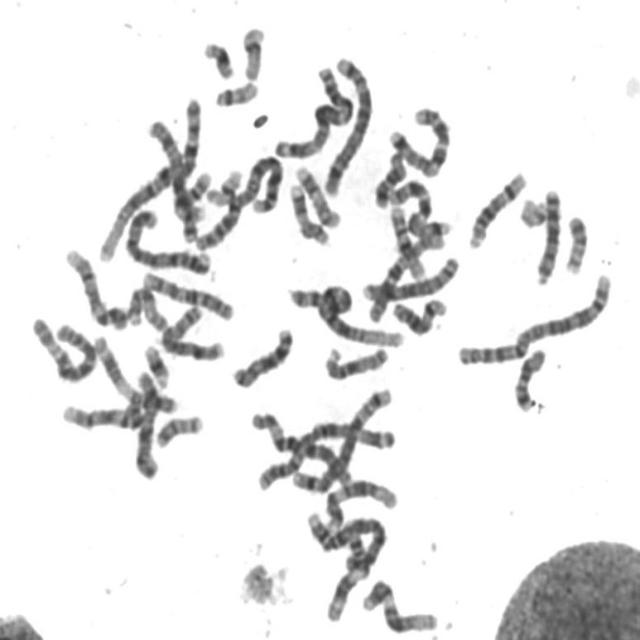A1: (93, 93, 205, 265), (285, 278, 407, 350)
A2: (452, 266, 616, 368), (190, 148, 286, 252)
A3: (250, 410, 398, 492), (269, 58, 358, 160)
B4: (120, 202, 213, 276), (302, 506, 388, 575)
B5: (286, 383, 395, 496), (318, 50, 375, 197)
C10: (368, 230, 446, 324), (137, 264, 236, 323)
C11: (89, 329, 180, 415), (321, 520, 372, 624)
C12: (358, 575, 440, 635), (320, 473, 400, 534)
C6: (248, 406, 357, 490), (26, 312, 99, 386)
C7: (383, 100, 454, 178), (385, 174, 447, 248)
C8: (358, 249, 462, 312), (156, 301, 227, 363)
C9: (60, 241, 130, 332), (58, 393, 149, 433)
D13: (227, 321, 296, 390), (530, 181, 564, 286)
D14: (464, 164, 530, 250), (388, 291, 449, 337)
D15: (319, 339, 392, 382), (122, 280, 170, 332)
E16: (385, 198, 428, 280), (172, 172, 219, 218)
E17: (290, 159, 344, 229), (284, 177, 333, 248)
E18: (509, 341, 550, 414), (369, 148, 409, 209)
F19: (201, 161, 246, 208), (236, 19, 268, 82)
F20: (152, 409, 204, 450), (560, 208, 591, 276)
G21: (198, 35, 237, 81), (139, 338, 172, 390)
G22: (210, 73, 261, 108), (515, 191, 550, 229)
X: (148, 121, 197, 239), (131, 363, 161, 481)
